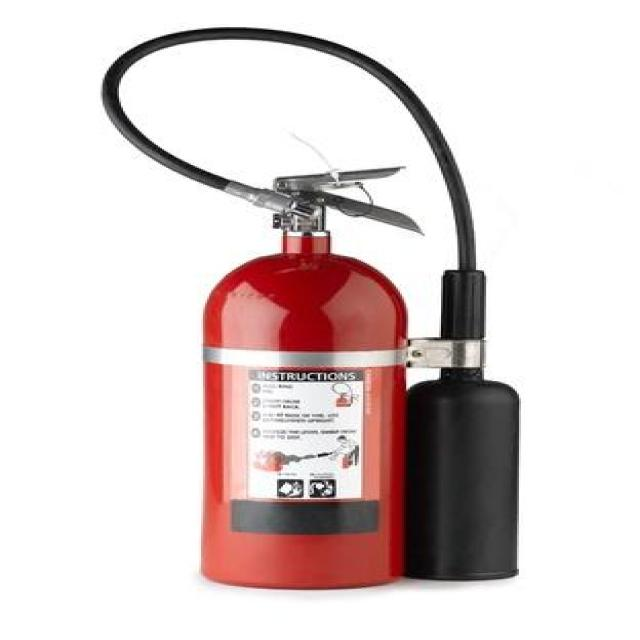fire_extinguisher: (96, 22, 526, 591)
